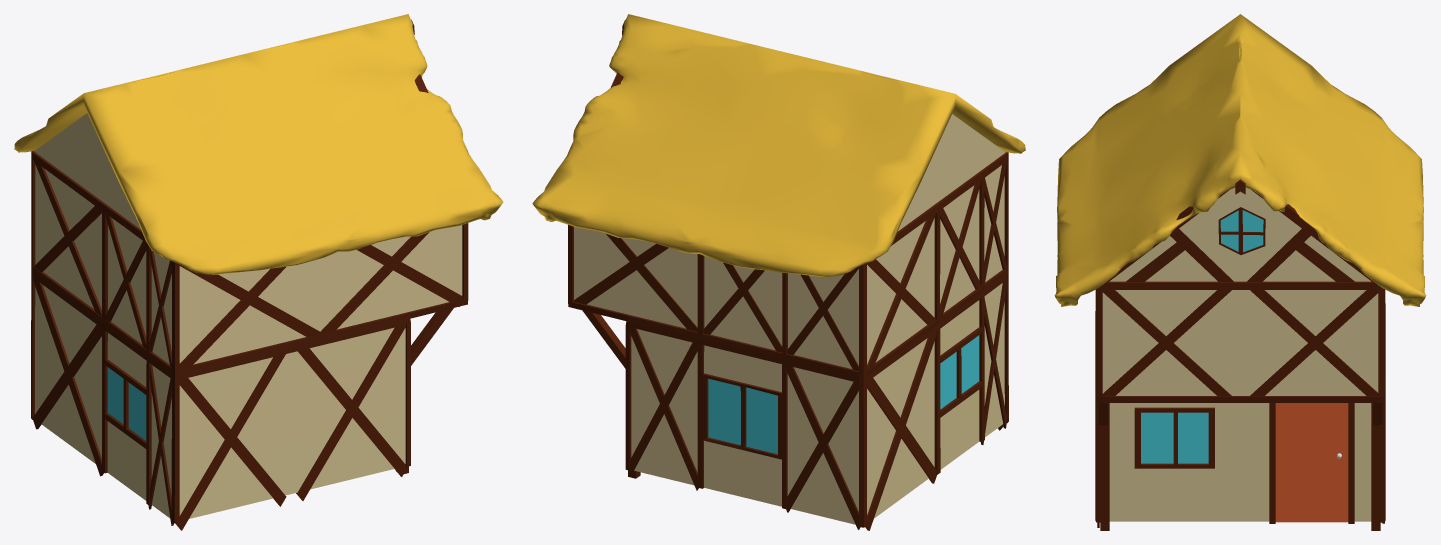
File: MaisonPanDeBois.glb
The picture shows the model from 3 angles, left to right: view 1: azimuth 30°, elevation 25°; view 2: azimuth 150°, elevation 25°; view 3: azimuth 270°, elevation 25°; orthographic projection.
Visible parts, largest first — view 1: Base; view 2: Base; view 3: Base.
Part boxes in pixels (left/top/right/bottom): Base: left=14, top=14, right=503, bottom=530; Base: left=532, top=14, right=1025, bottom=530; Base: left=1054, top=14, right=1426, bottom=530.
Bounding box in the file's own units: 4.47 × 5.1 × 4.37.
